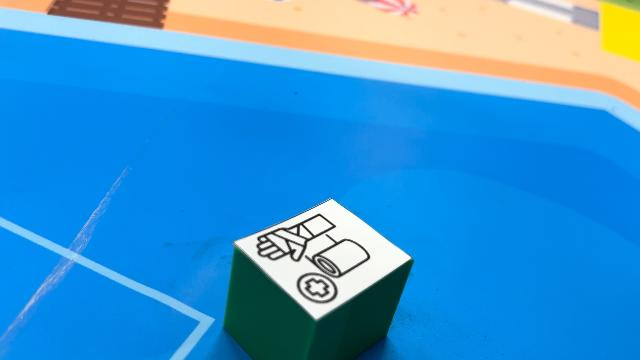bandage: (222, 197, 414, 359)
